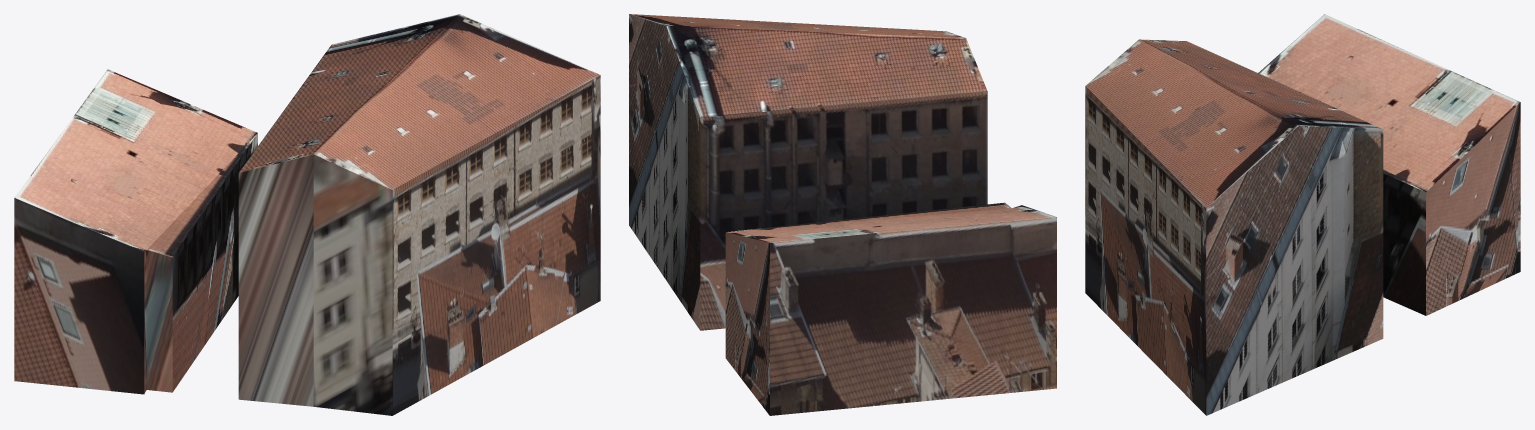
3 views of the same model, side by side, from view 1: azimuth 30°, elevation 25°; view 2: azimuth 150°, elevation 25°; view 3: azimuth 270°, elevation 25° (orthographic). The views are drawn at different scales.
Parts seen in each view (by area): view 1: Z_UP; view 2: Z_UP; view 3: Z_UP.
Part boxes in pixels (bbox=[...]): Z_UP: bbox=[14, 14, 600, 415]; Z_UP: bbox=[629, 14, 1056, 415]; Z_UP: bbox=[1085, 14, 1520, 415].
Size of the model in its own units: 41.39 by 20.62 by 32.56.
2 materials, 1 textured.
